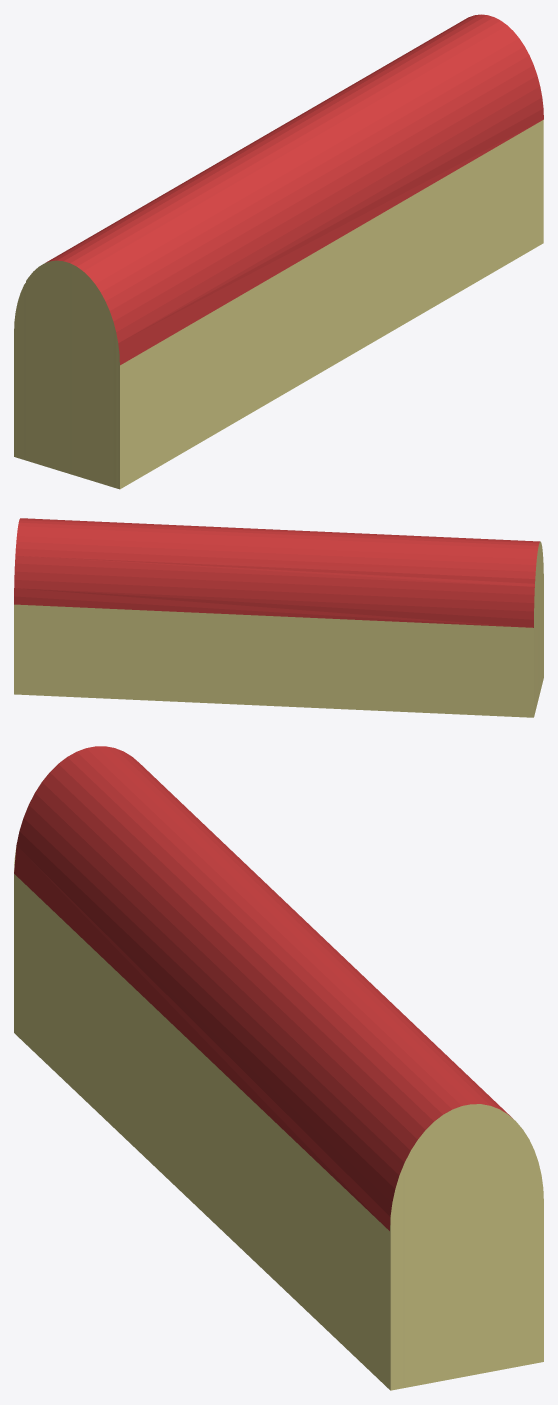
3 renders of one model, top to bottom at view 1: azimuth 30°, elevation 25°; view 2: azimuth 150°, elevation 25°; view 3: azimuth 270°, elevation 25°, orthographic. The views are drawn at different scales.
Size of the model in its own units: 16.94 by 9.81 by 5.54.
